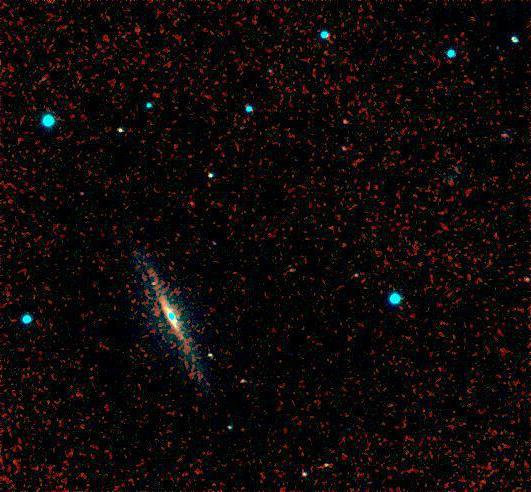star: (138, 271, 168, 301)
